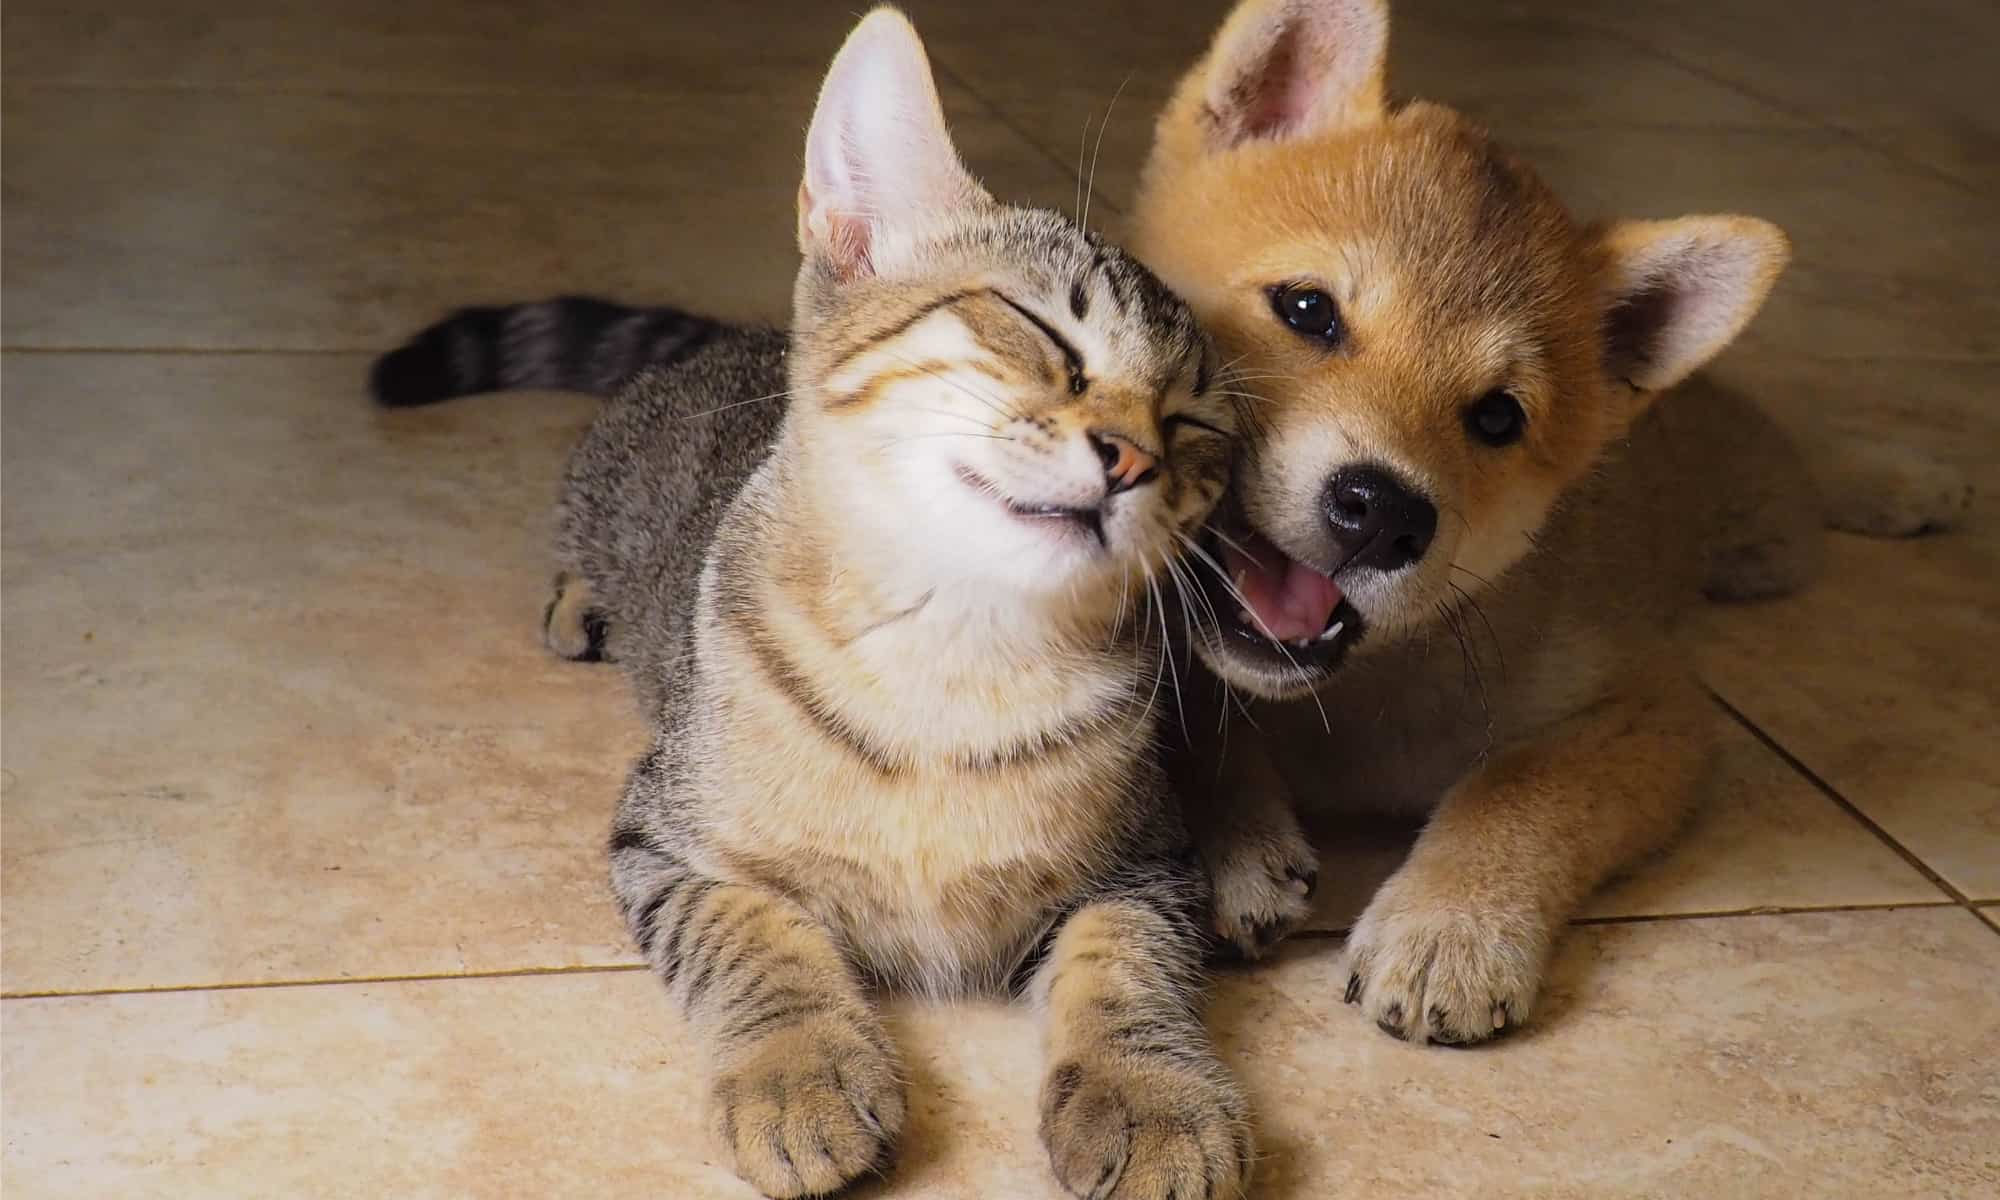cat: (371, 66, 1236, 1200)
dog: (1131, 3, 1971, 1047)
